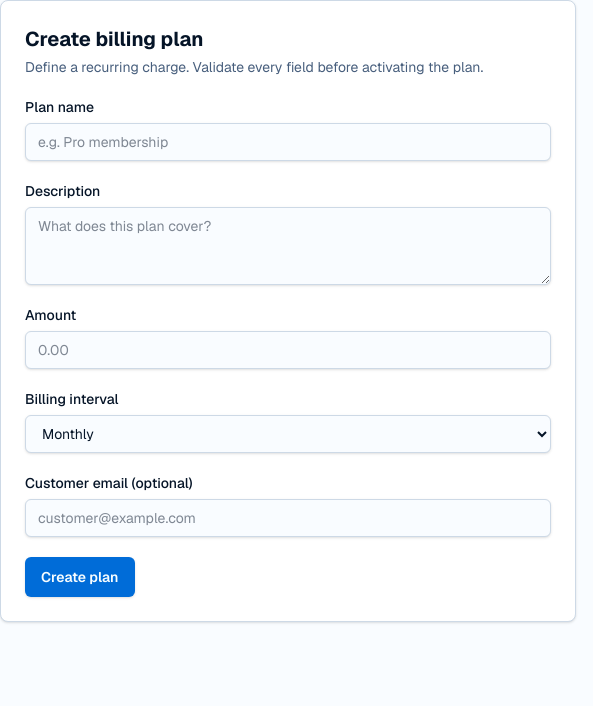
BillingPlanForm › blocks submission and shows errors when required fields are empty
What coordinates should you click on to do the following:
click the button "Create plan"
I would click on:
 (80, 577)
Its box is left=25, top=557, right=134, bottom=597.
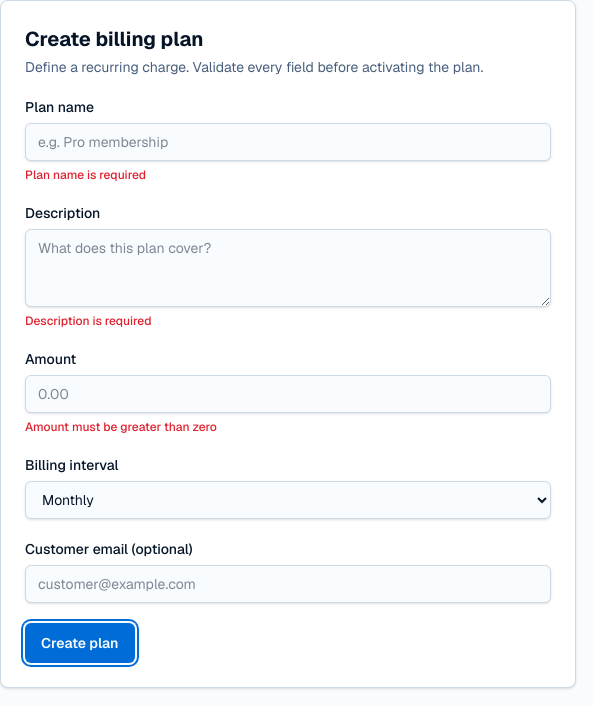
Expected: the text "Plan name is required" is shown, left=25, top=167, right=146, bottom=183
Expected: the text "Description is required" is shown, left=25, top=313, right=152, bottom=329
Expected: the text "Amount must be greater than zero" is shown, left=25, top=419, right=217, bottom=435
